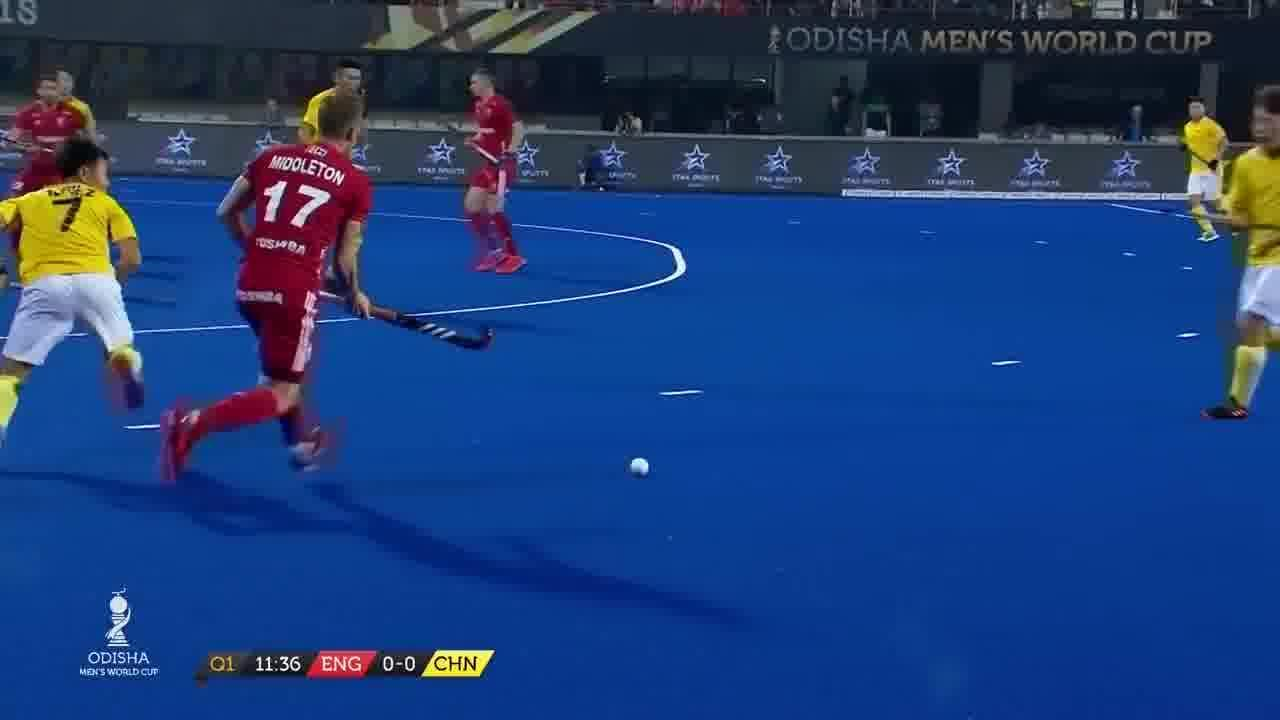ball: (624, 450, 654, 482)
